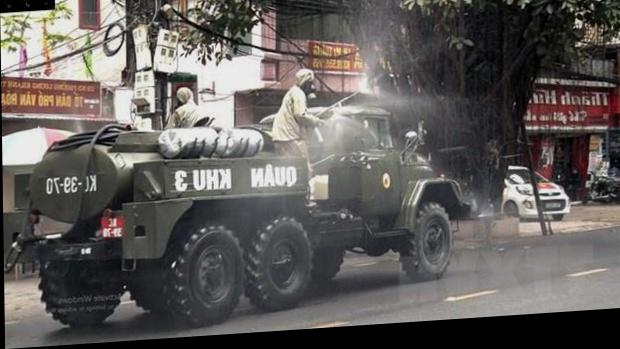License_Plate: (98, 215, 126, 240)
